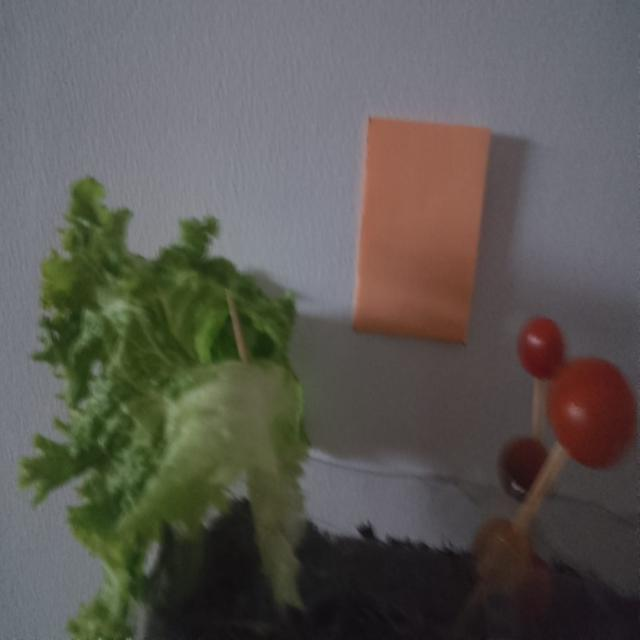card: (353, 118, 490, 343)
fruit_maturation: (474, 519, 534, 591)
fully_grown: (519, 319, 637, 468), (499, 437, 547, 501)
